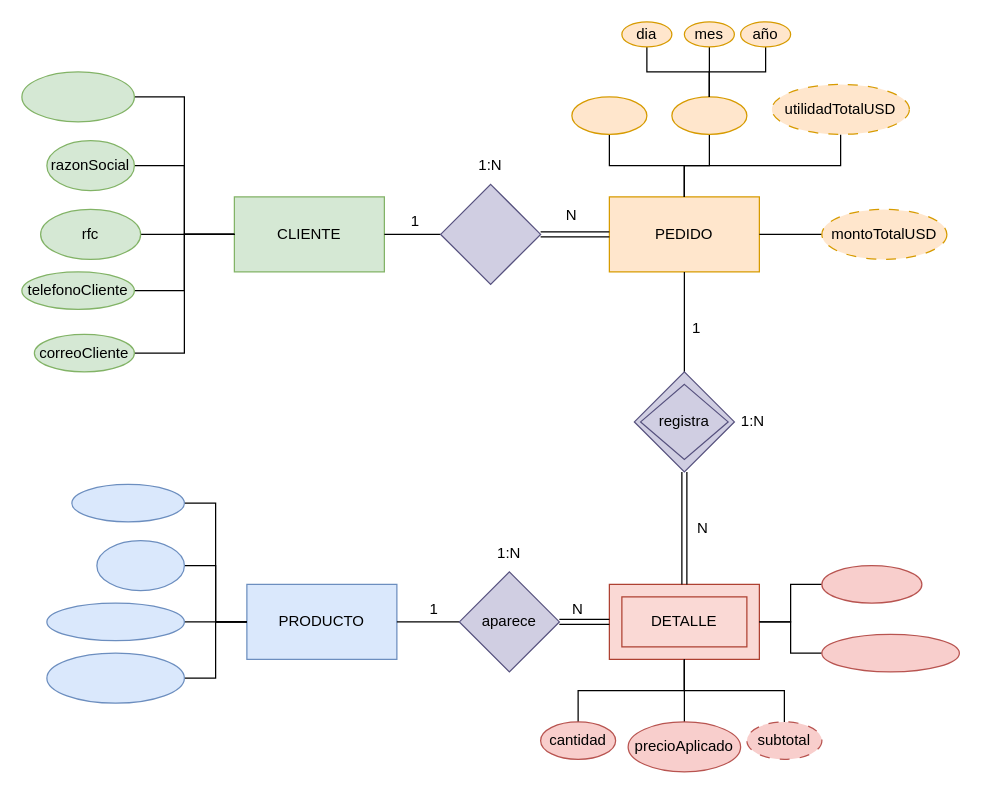
Some shapes in this 981 by 794 pixel diagram are drawn without their labels. Here are the shapes that lost their labels. From the top down, the centre of each, then its label:
pixel 77 96: numeroCliente
pixel 609 115: folio
pixel 709 115: fecha
pixel 490 233: realiza
pixel 127 502: claveProducto
pixel 140 565: lineaFamilia
pixel 871 583: claveParcial
pixel 115 621: costoUnitarioUSD
pixel 890 652: costoProduccion
pixel 115 677: precioUnitarioUSD
